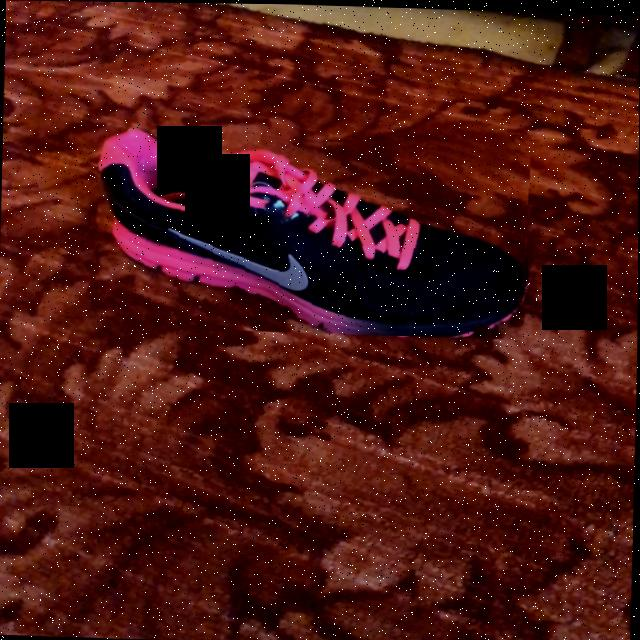shoe: (98, 129, 526, 336)
